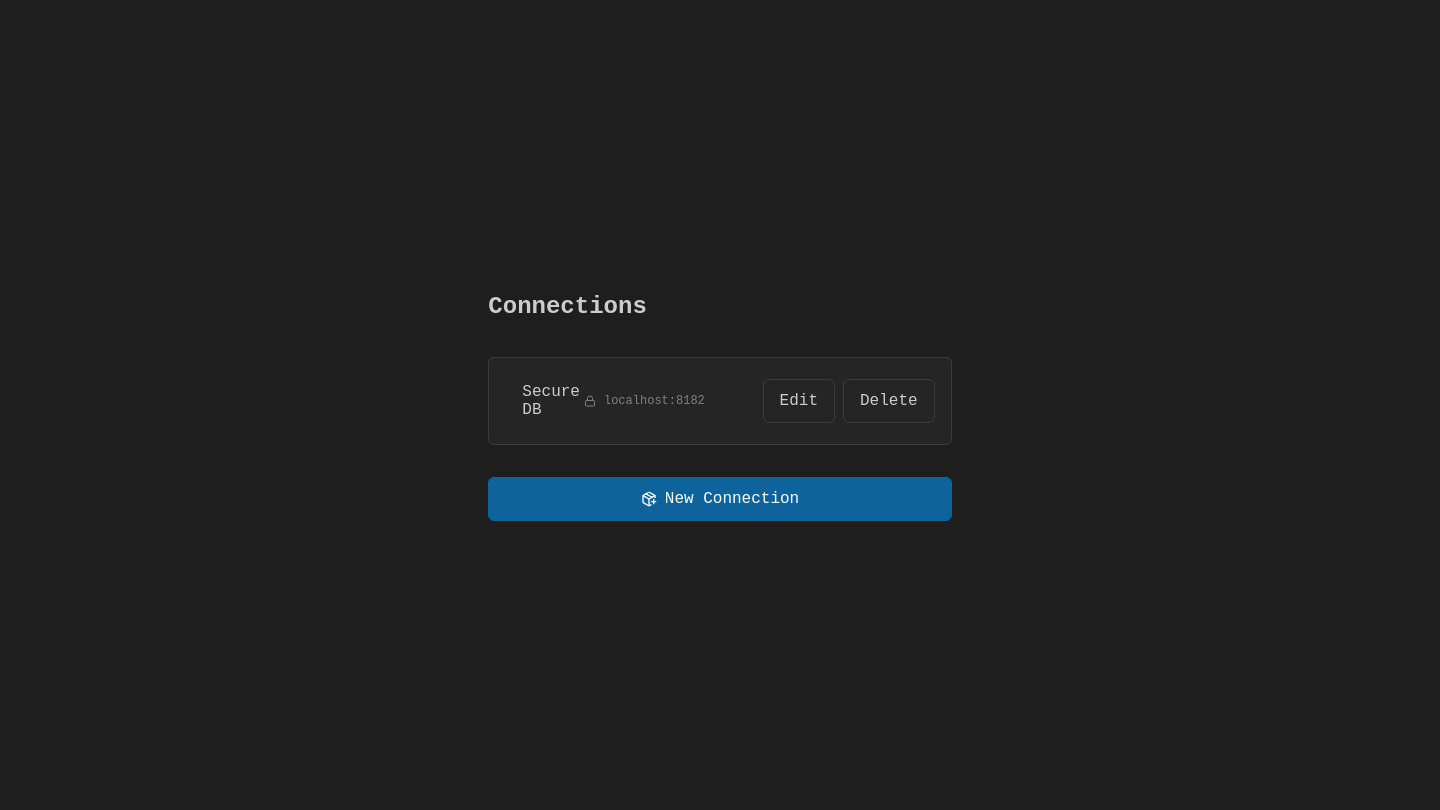
ConnectionsPanel › clears PIN error when user starts typing again
Click secure connection
Click the button "Secure DB localhost:8182".
click(628, 401)  # box [505,370,751,432]
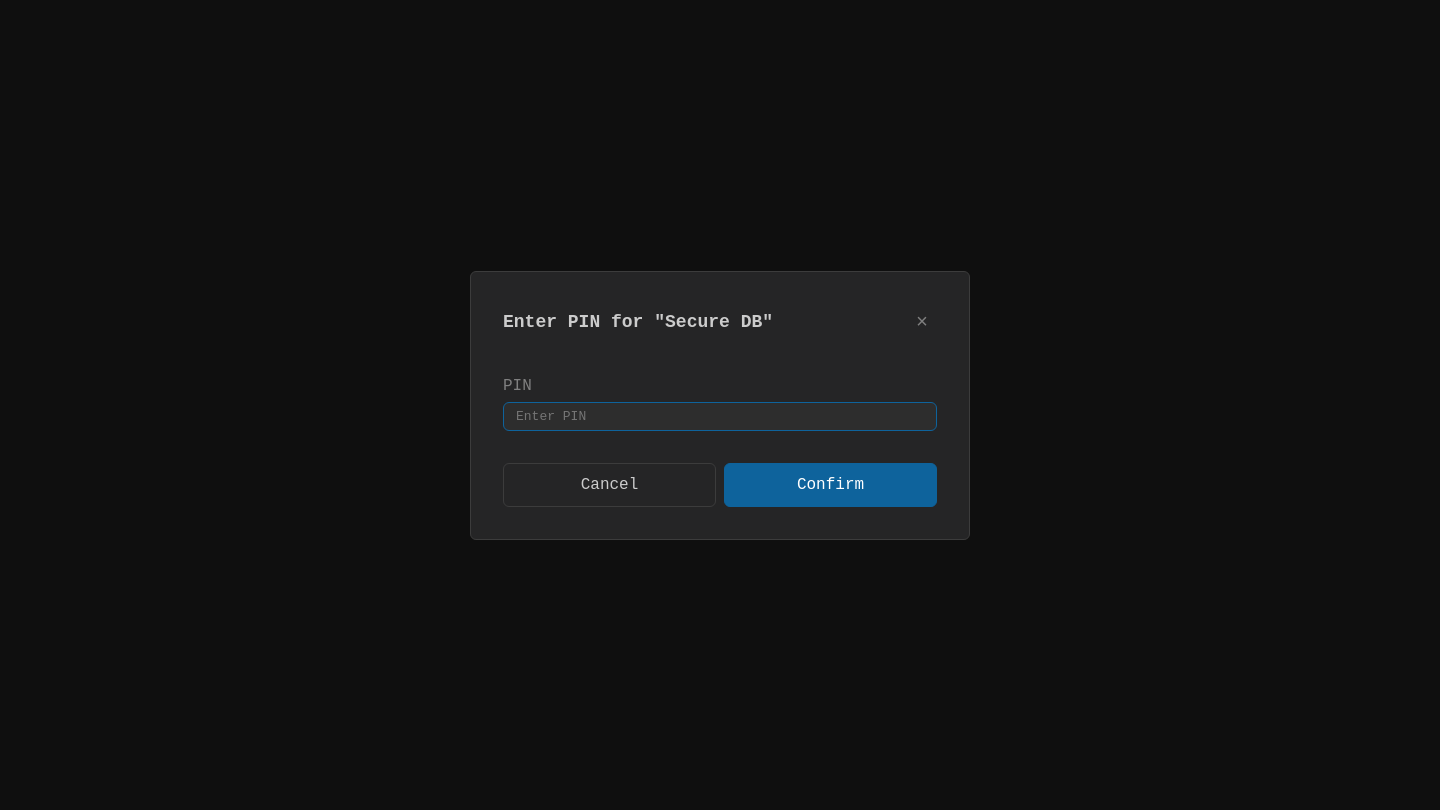
Enter wrong PIN and submit
Type "9999" into the password field labelled "PIN".
click(720, 416); type("9999")  # box [503,402,937,430]
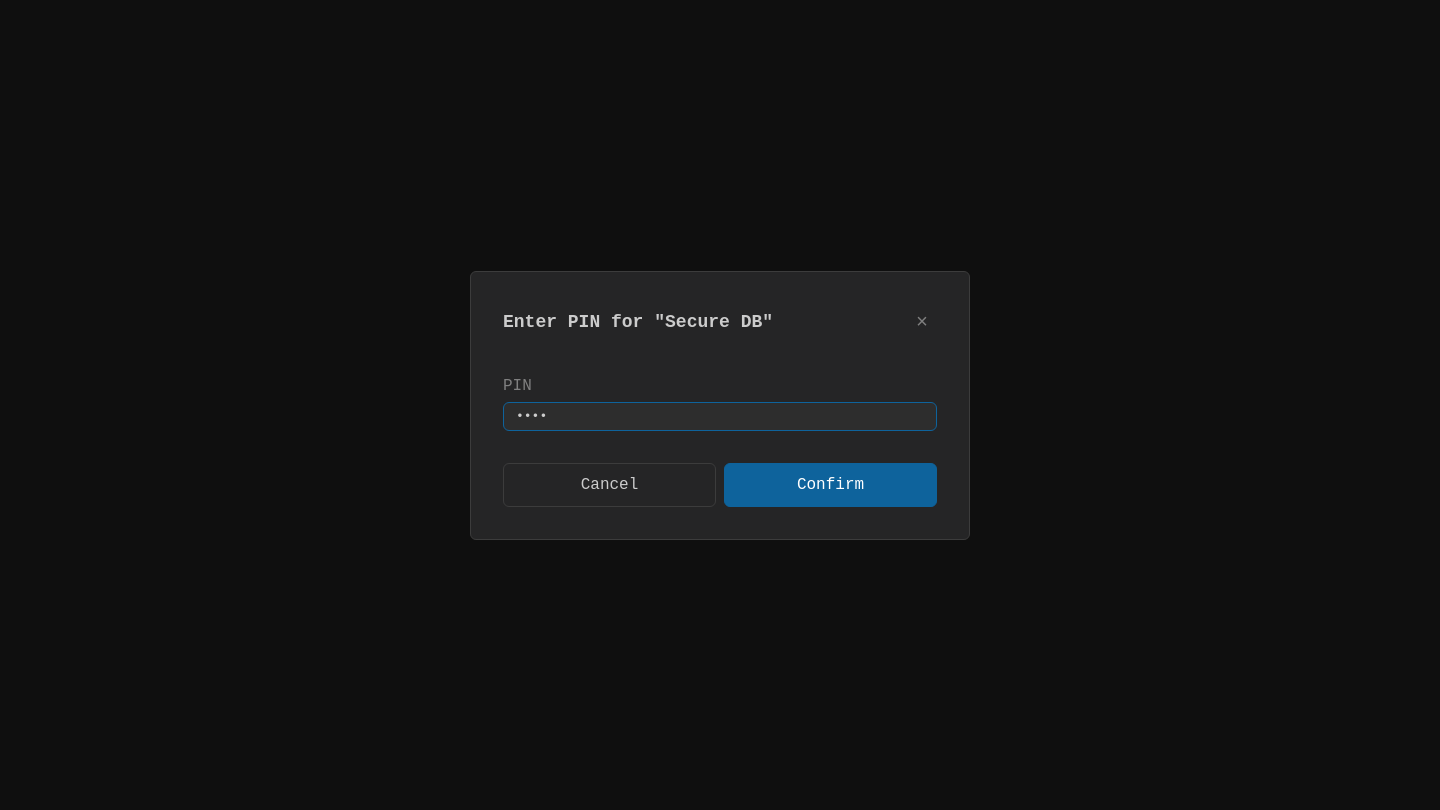
Click the button "Confirm".
click(830, 484)  # box [724,462,937,506]
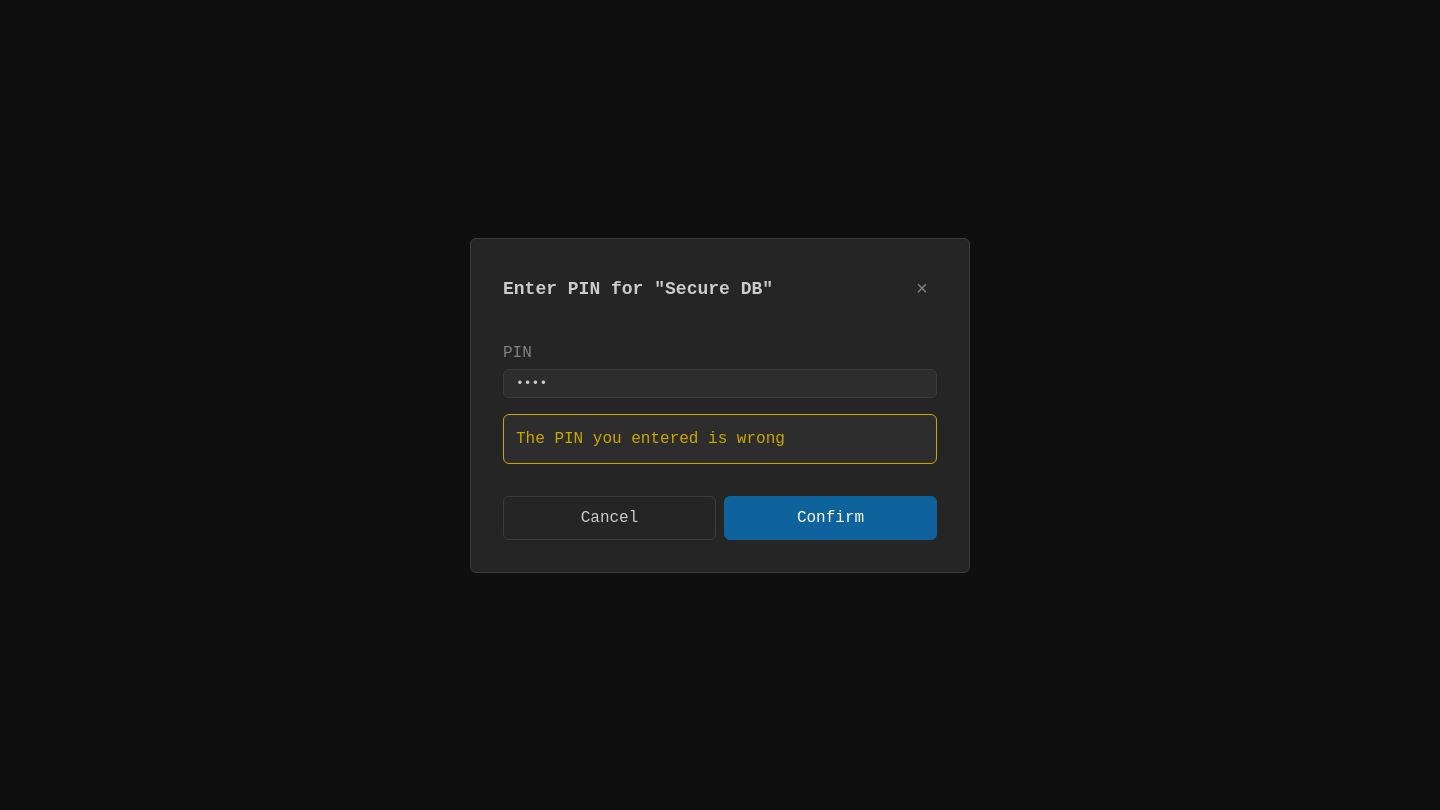
Check: the text "The PIN you entered is wrong" is shown, box [503,414,937,464]
Start typing again
Type "1" into the password field labelled "PIN".
click(720, 383); type("1")  # box [503,368,937,398]
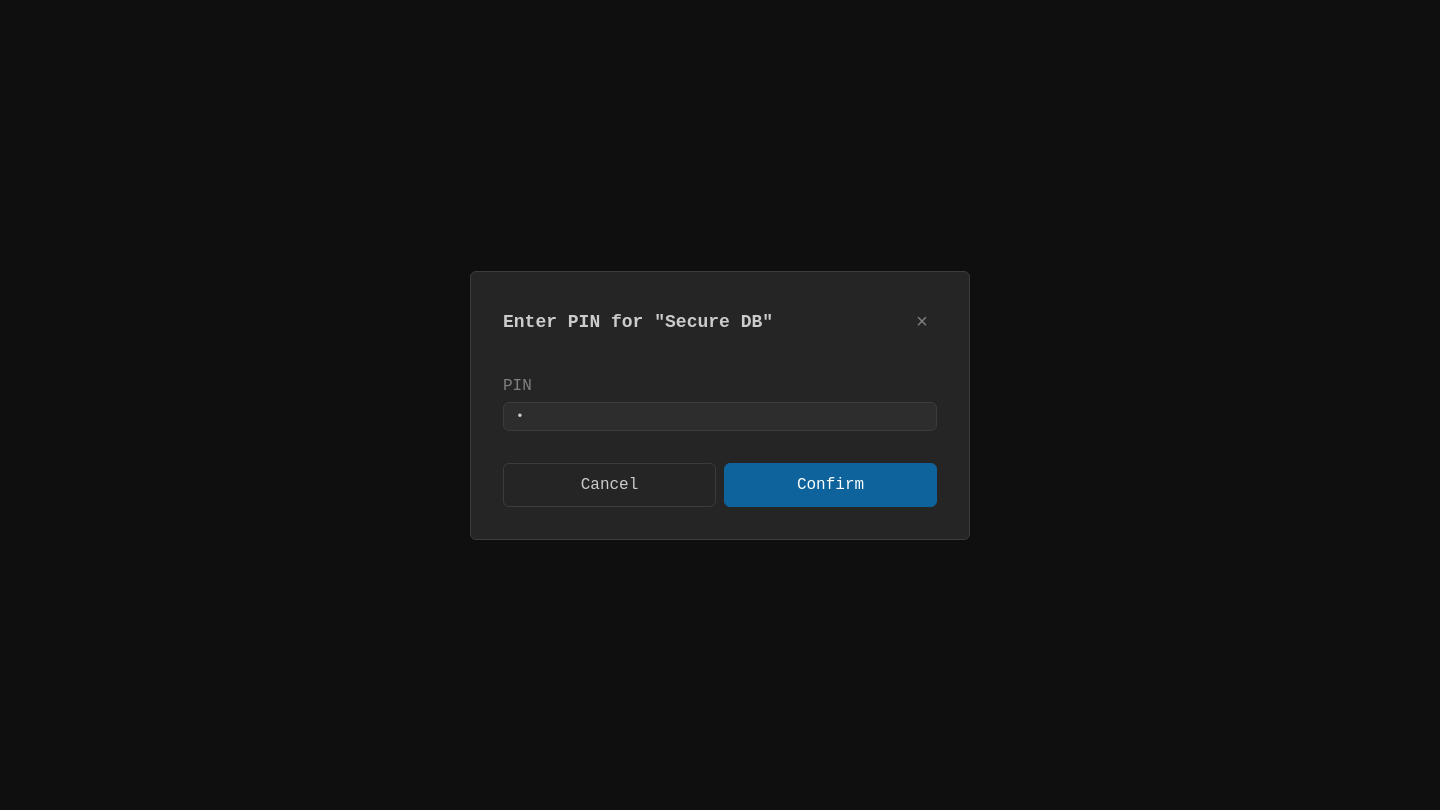
Check: the text "The PIN you entered is wrong" is gone
